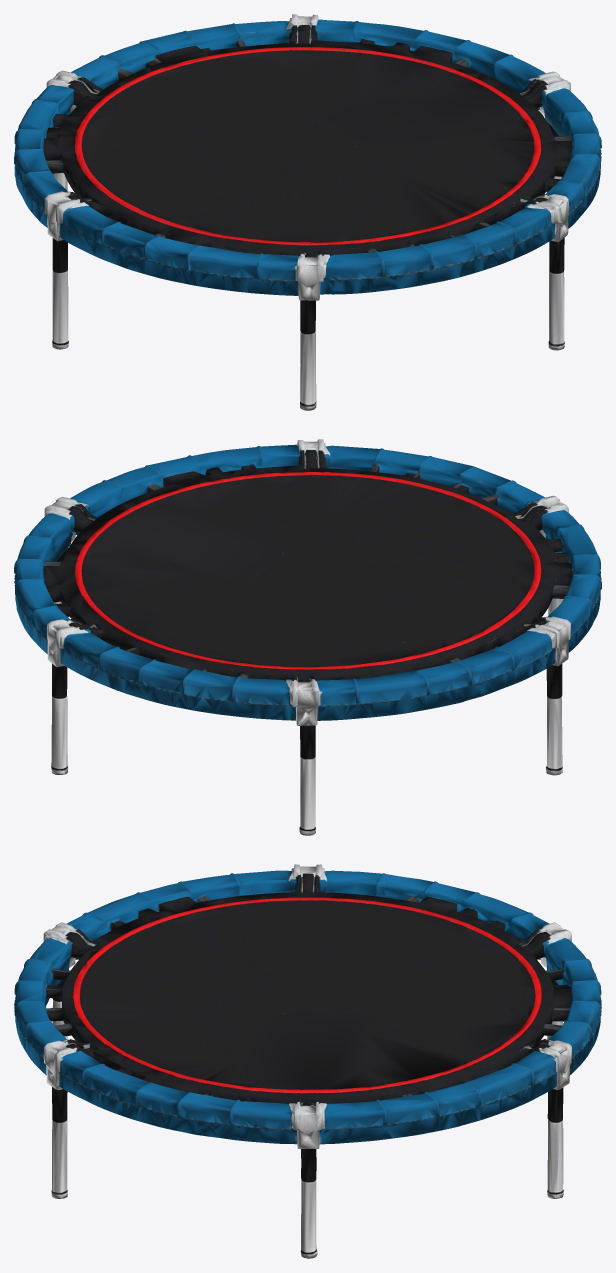
File: toit-trampoline.glb
3 renders of one model, top to bottom at view 1: azimuth 30°, elevation 25°; view 2: azimuth 150°, elevation 25°; view 3: azimuth 270°, elevation 25°, orthographic.
Bounding box in the file's own units: 1.9 × 0.5264 × 1.89.
1 material, 1 textured.
